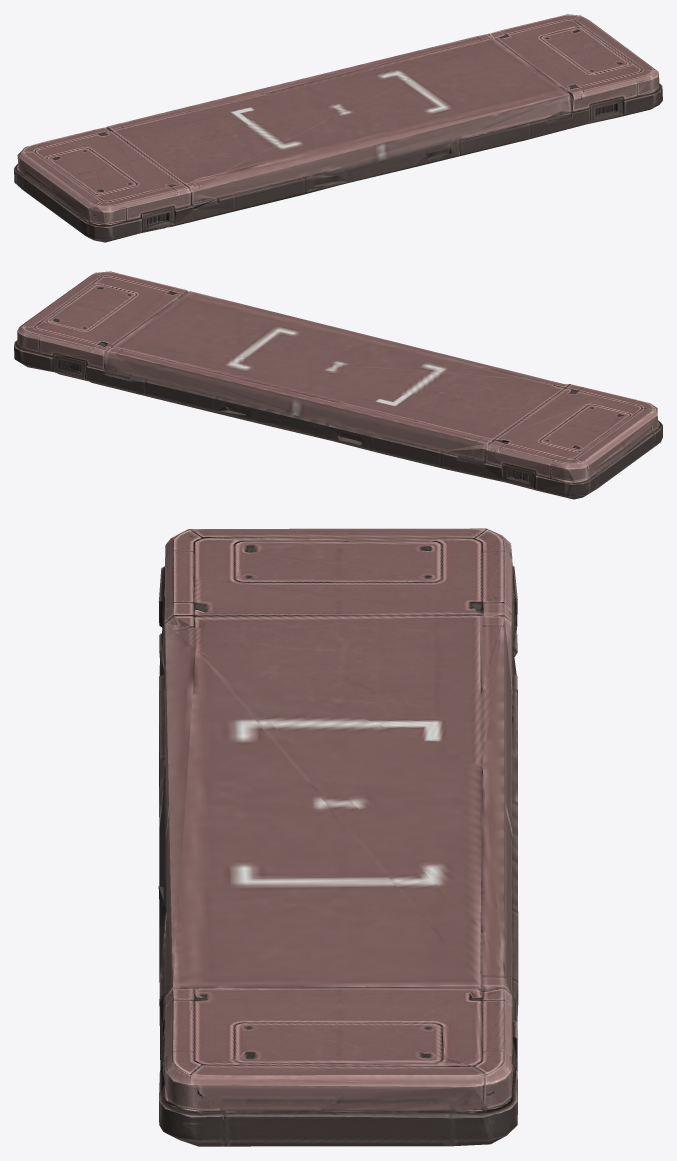
Rendered from landing-platform-enamel.glb.
3 renders of one model, top to bottom at view 1: azimuth 30°, elevation 25°; view 2: azimuth 150°, elevation 25°; view 3: azimuth 270°, elevation 25°, orthographic. The views are drawn at different scales.
Parts seen in each view (by area): view 1: output_unwrapped; view 2: output_unwrapped; view 3: output_unwrapped.
Boxes of the visible parts, x1,y1,x2,y2 form: output_unwrapped: (14, 14, 662, 242); output_unwrapped: (14, 271, 662, 499); output_unwrapped: (158, 528, 518, 1146).
Size of the model in its own units: 1.9 by 0.1167 by 0.515.
1 material, 1 textured.
